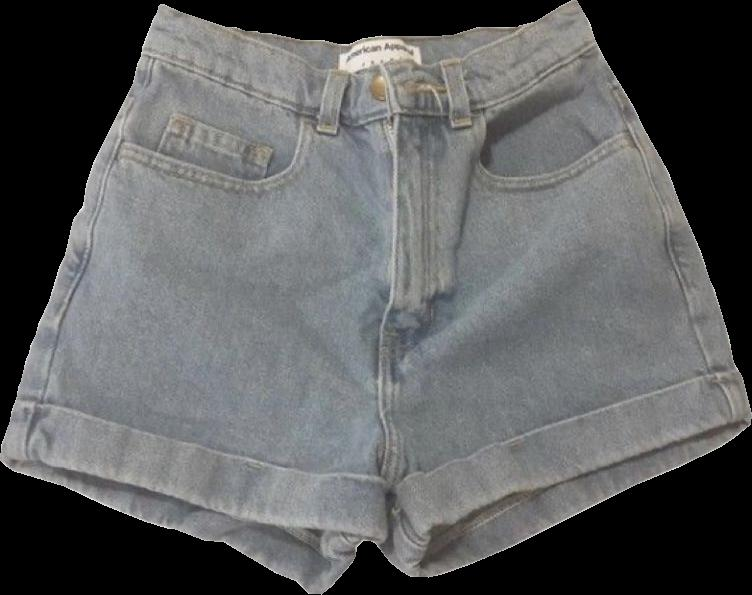Hemline: (410, 415, 751, 575), (2, 454, 385, 551)
Pantleg: (0, 4, 396, 593), (378, 1, 751, 577)
Waistline: (139, 39, 598, 125), (160, 0, 577, 74)
